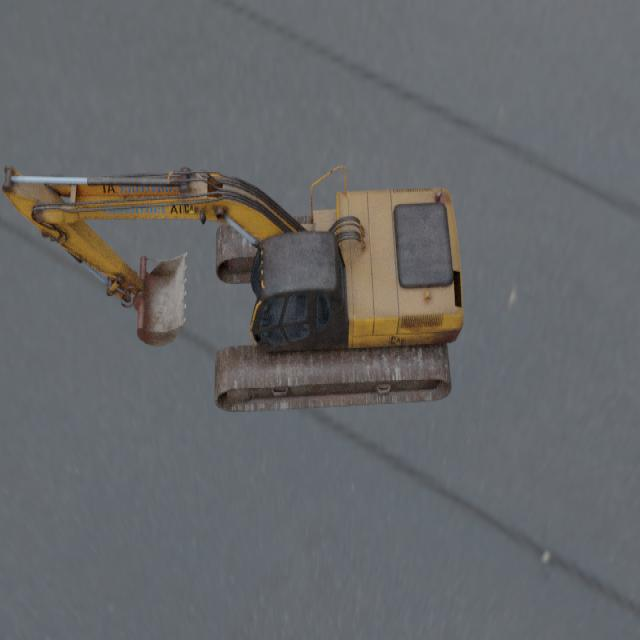excavator: (1, 164, 463, 412)
